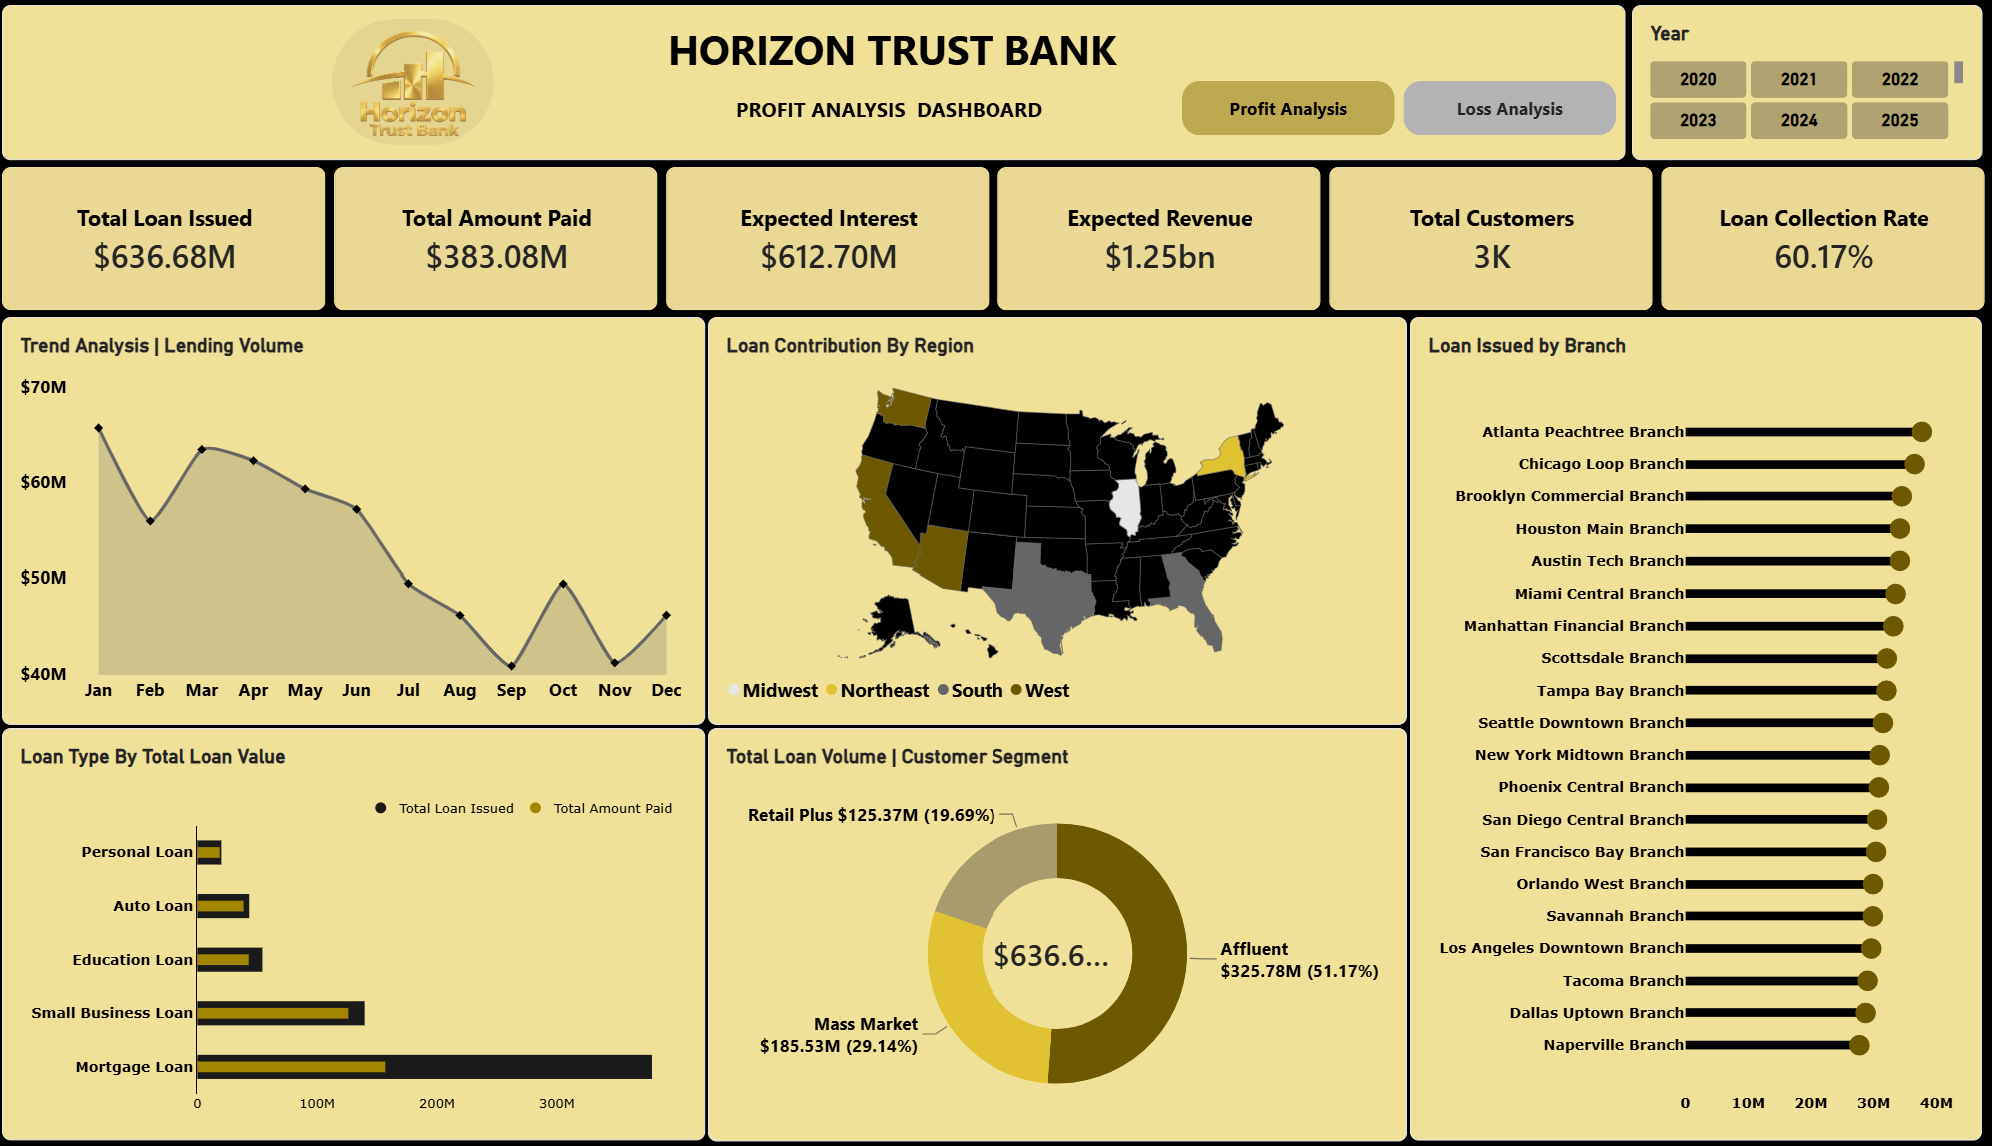

The page's visual inventory and layout, read from the dashboard file:
{"tool":"powerbi","page":{"name":"Profit Analysis","canvas":[1920,1080],"ordinal":0},"visuals":[{"type":"cardVisual","fields":{"Data":["MeasuresDim (ProfitAnalysis).Total Loan Issued","MeasuresDim (ProfitAnalysis).Total Amount Paid","MeasuresDim (ProfitAnalysis).Toatal Expected Interest","MeasuresDim (ProfitAnalysis).ExpectedRevenue","MeasuresDim (ProfitAnalysis).Total Customers","MeasuresDim (ProfitAnalysis).Loan Rate Collected"]},"box":[43.5,160.4,1832,132.3],"z":0},{"type":"lineChart","title":"Trend Analysis | Lending Volume","fields":{"Category":["CalanderDim.Monnth(SF)"],"Y":["MeasuresDim (ProfitAnalysis).Total Loan Issued"]},"box":[43.7,298.6,648.3,374.9],"z":1000},{"type":"horizontalbullechartAD848DB2E71C1BBC88C027512FD82044","title":"Loan Type By Total Loan Value","fields":{"col_2":["MeasuresDim (ProfitAnalysis).Total Loan Issued"],"col_0":["LoanTypeDim.LoanTypeName"],"col_1":["MeasuresDim (ProfitAnalysis).Total Amount Paid"]},"box":[43.3,676.5,648.3,380.5],"z":2000},{"type":"shapeMap","title":"Loan Contribution By Region","fields":{"Category":["StateDim.StateName"],"Series":["StateDim.MarketRegion"],"Value":["MeasuresDim (ProfitAnalysis).Expected Revenue"]},"box":[694.3,298.3,645.1,375.1],"z":3000},{"type":"lollipopbar3906E14BA17BC92E464868265E6264D9","title":"Loan Issued by Branch","fields":{"col_0":["BranchDim.BranchName"],"col_1":["MeasuresDim (ProfitAnalysis).Total Loan Issued"]},"box":[1341.8,299,527.3,758.4],"z":4000},{"type":"donutChart","title":"Total Loan Volume | Customer Segment","fields":{"Category":["CustomerDim.CustomerSegment"],"Y":["MeasuresDim (ProfitAnalysis).Total Loan Issued"]},"box":[693.9,676.4,645.1,380.6],"z":5000},{"type":"advancedSlicerVisual","fields":{"Values":["CalanderDim.Year"]},"box":[1546.3,11.1,322.5,142.8],"z":6000},{"type":"textbox","box":[43.5,10.9,1496.8,143.2],"z":7000},{"type":"image","box":[347,23.6,149.3,116.1],"z":8000},{"type":"pageNavigator","box":[1131.6,81.5,400,50],"z":9000}]}

Visuals, with their boxes in screenshot pixels (x1, y1, x2, y2), scaled from the page's 1920x1080 canvas onto the 1992x1146 screenshot:
cardVisual - MeasuresDim (ProfitAnalysis).Total Loan Issued x MeasuresDim (ProfitAnalysis).Total Amount Paid: crop(45, 170, 1946, 311)
"Trend Analysis | Lending Volume" lineChart: crop(45, 317, 718, 715)
"Loan Type By Total Loan Value" horizontalbullechartAD848DB2E71C1BBC88C027512FD82044: crop(45, 718, 718, 1122)
"Loan Contribution By Region" shapeMap: crop(720, 317, 1390, 715)
"Loan Issued by Branch" lollipopbar3906E14BA17BC92E464868265E6264D9: crop(1392, 317, 1939, 1122)
"Total Loan Volume | Customer Segment" donutChart: crop(720, 718, 1389, 1122)
advancedSlicerVisual - CalanderDim.Year: crop(1604, 12, 1939, 163)
textbox: crop(45, 12, 1598, 164)
image: crop(360, 25, 515, 148)
pageNavigator: crop(1174, 86, 1589, 140)
